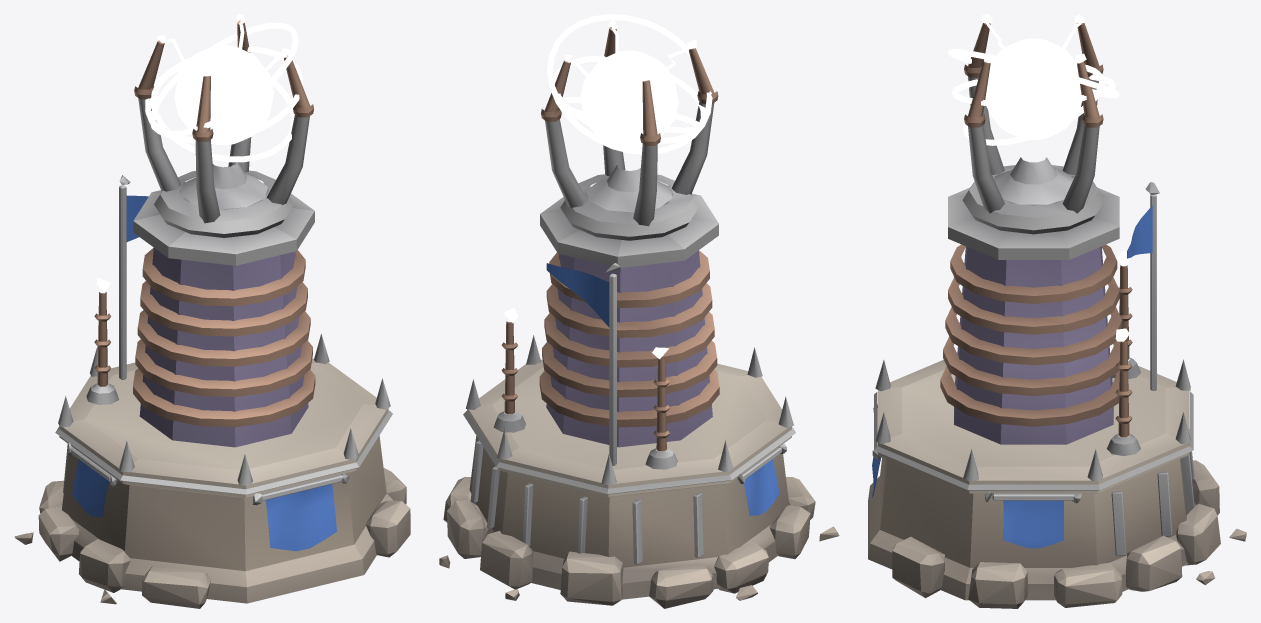
Rendered from spark_1_7.glb.
3 renders of one model, left to right at view 1: azimuth 30°, elevation 25°; view 2: azimuth 150°, elevation 25°; view 3: azimuth 270°, elevation 25°, orthographic. The views are drawn at different scales.
Parts seen in each view (by area): view 1: Tower, Turret; view 2: Tower, Turret; view 3: Tower, Turret.
Boxes of the visible parts, left/top/right/bottom form: Tower: left=14, top=175, right=410, bottom=608; Turret: left=134, top=14, right=313, bottom=237; Tower: left=439, top=187, right=839, bottom=608; Turret: left=541, top=14, right=718, bottom=240; Tower: left=868, top=177, right=1246, bottom=608; Turret: left=948, top=14, right=1119, bottom=234.
Size of the model in its own units: 3.56 by 5.18 by 3.51.
